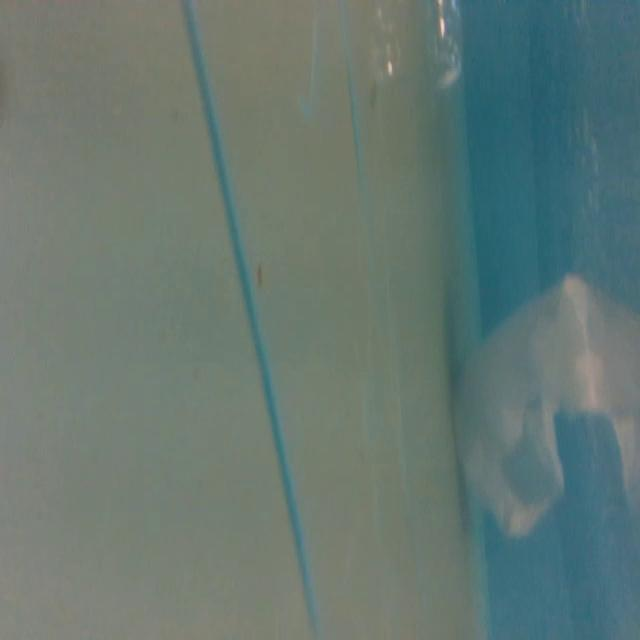plastic bags: (457, 263, 640, 537)
